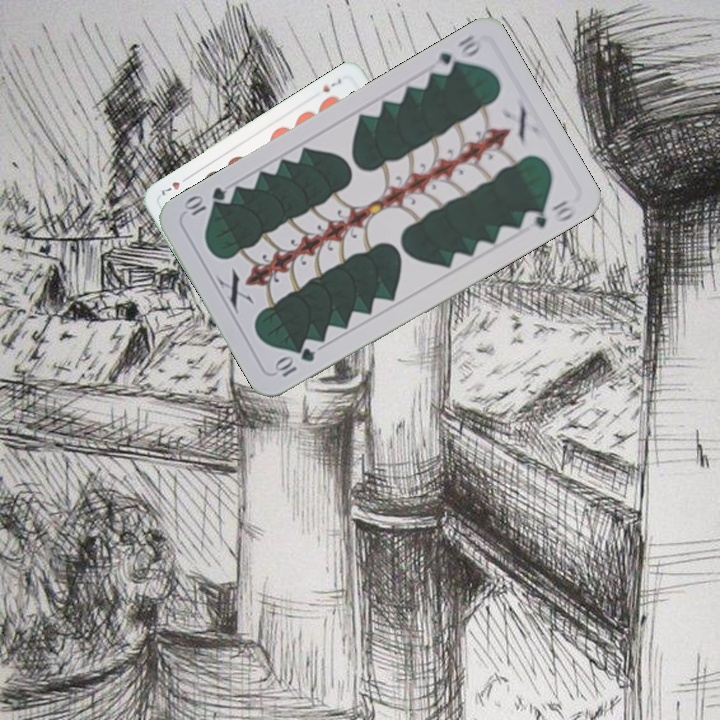G10: (433, 30, 483, 78), (270, 344, 318, 380)
H7: (318, 74, 344, 95)
